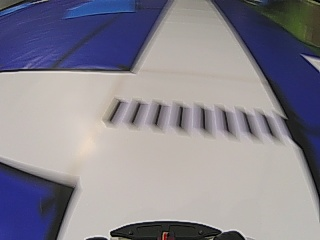CrossWalk: (106, 101, 279, 138)
